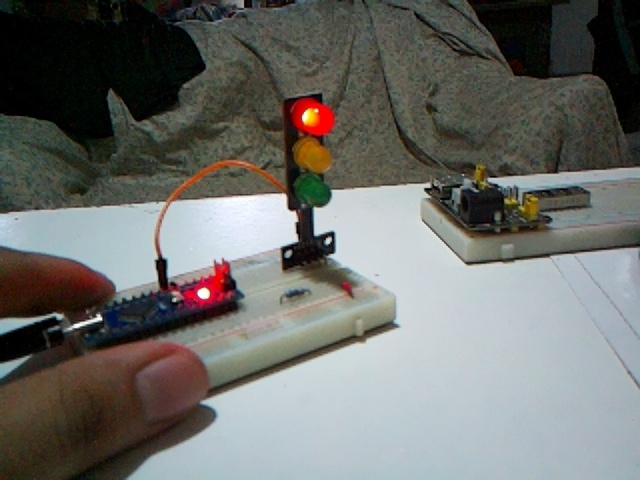traffic_light_red: (283, 94, 336, 266), (283, 93, 335, 210)
